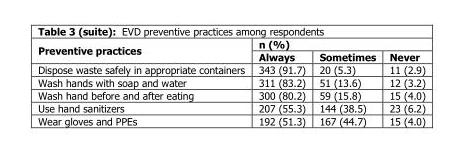table: (37, 37, 424, 126)
table column: (37, 37, 251, 126), (311, 37, 381, 126), (251, 37, 311, 126), (381, 37, 424, 126)
table column header: (37, 37, 424, 62)
table row: (37, 49, 424, 62), (37, 62, 424, 75), (37, 75, 424, 88), (37, 88, 424, 101), (37, 113, 424, 126), (37, 37, 424, 49), (37, 101, 424, 113)
table spanning cell: (37, 37, 251, 62), (251, 37, 424, 49)
